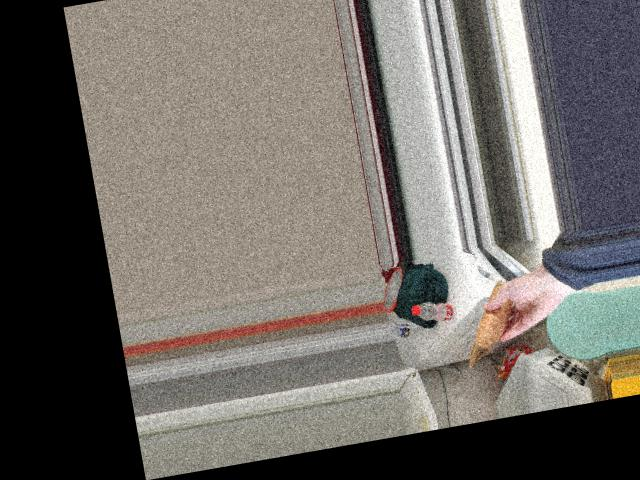sweet_potato: (470, 288, 514, 344)
